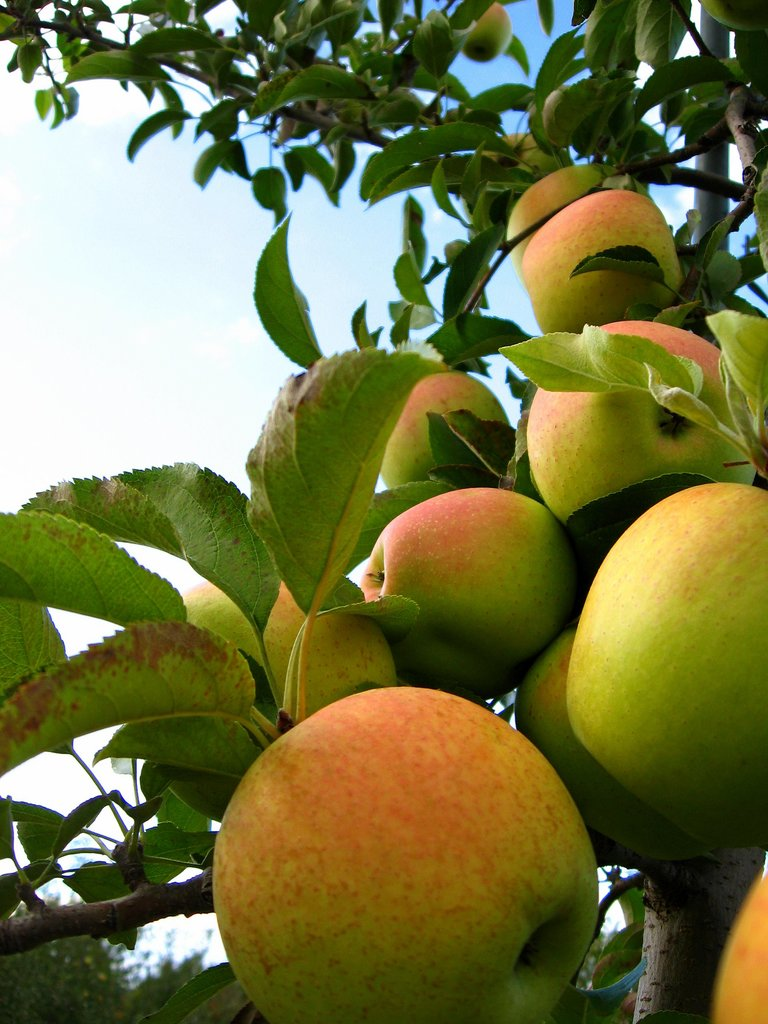Apple: (178, 0, 767, 1023), (212, 684, 600, 1023)
